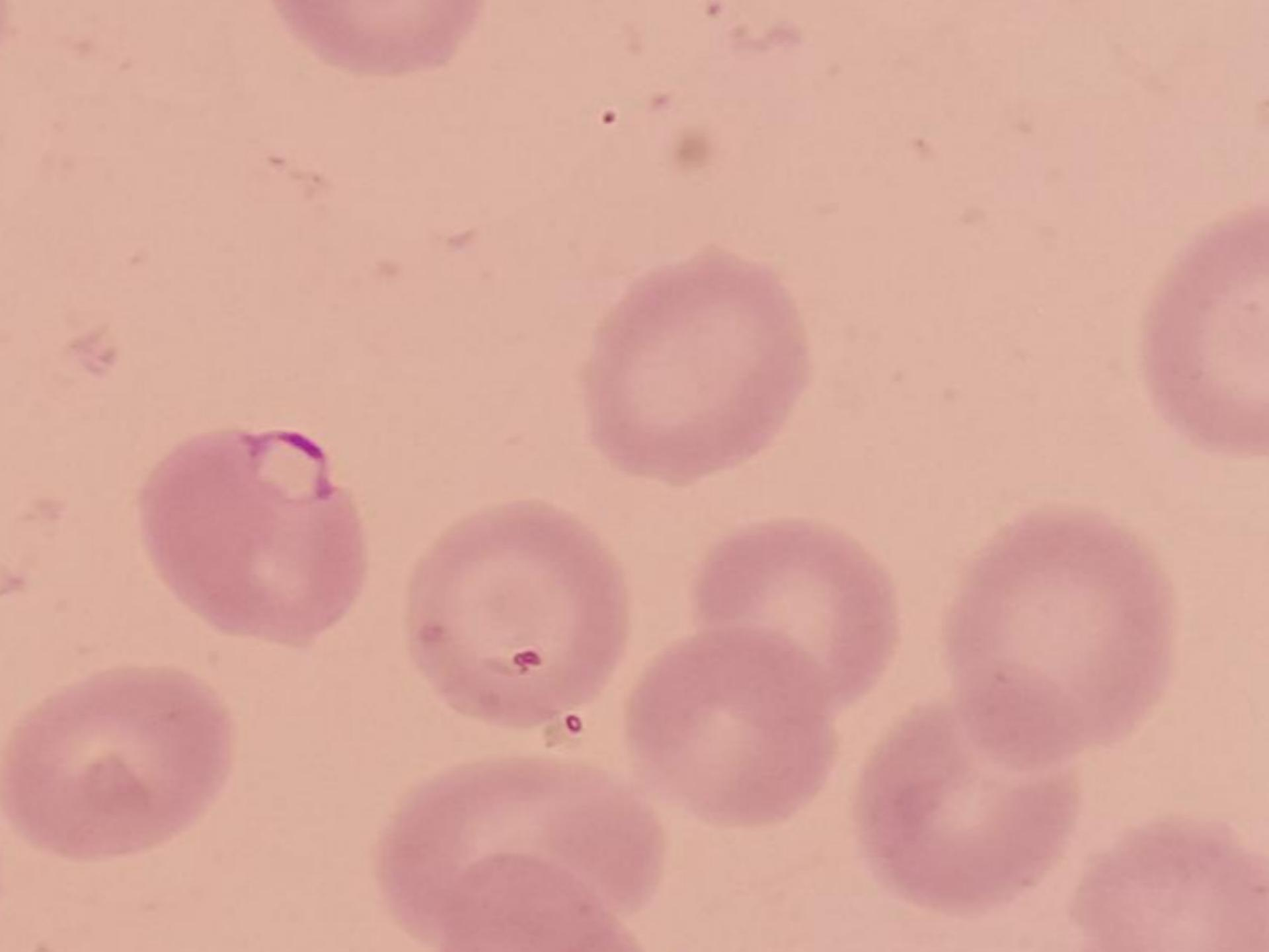Infected: (129, 426, 361, 649)
Uninfected: (941, 498, 1163, 765), (377, 754, 658, 940), (399, 498, 623, 721), (577, 252, 796, 478), (857, 679, 1071, 906), (621, 631, 833, 829), (9, 664, 225, 857), (696, 514, 897, 708), (1143, 201, 1269, 461)
